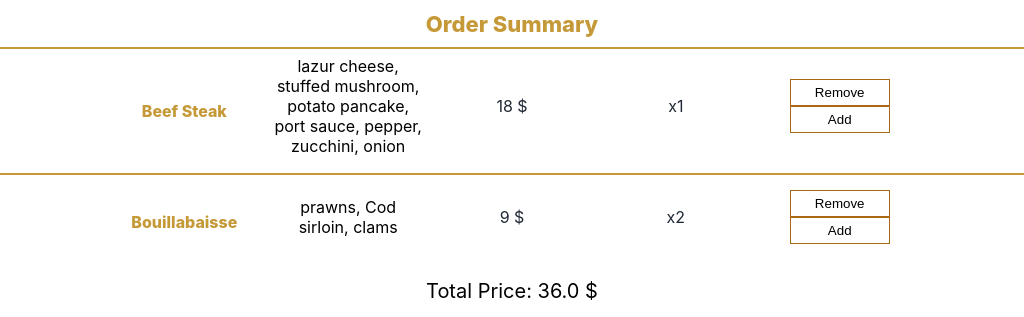
Test: summary prop equals true › should update amount of meals in a row after removing a meal
Click the button "Remove" in the row of "prawns, Cod sirloin, clams" at (840, 204), box [790,190,890,217]
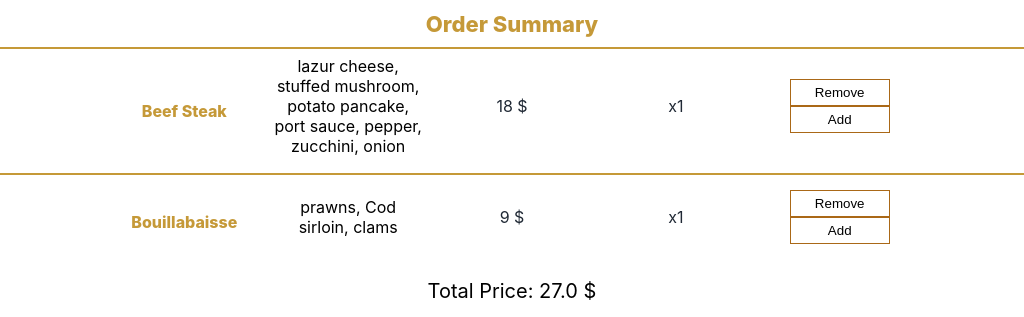
Check: the text "x1" in the row of "prawns, Cod sirloin, clams" is shown, box [668,207,684,227]
